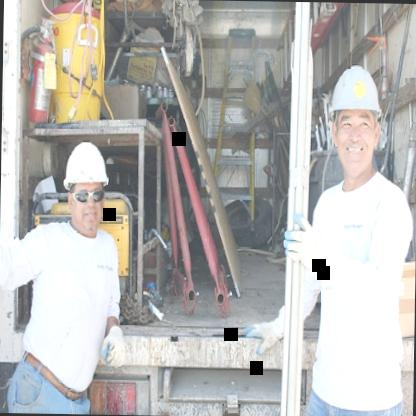helmet: (322, 53, 384, 186), (57, 133, 110, 239)
